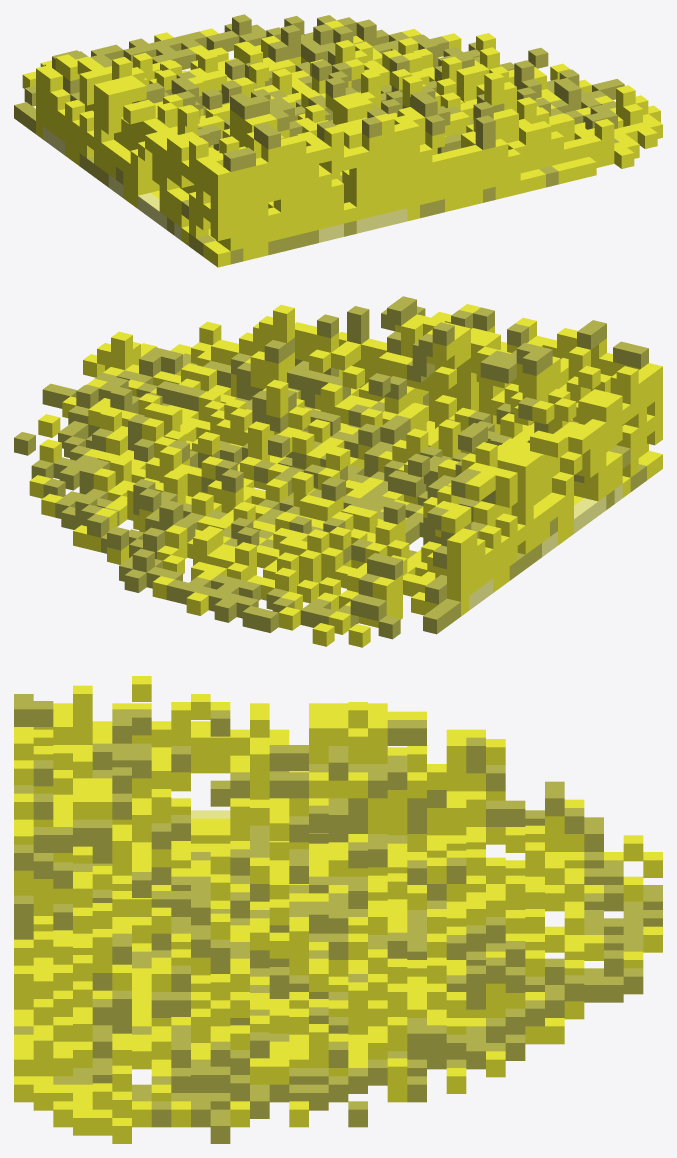
File: Corner room sand.obj
The picture shows the model from 3 angles, top to bottom: view 1: azimuth 30°, elevation 25°; view 2: azimuth 150°, elevation 25°; view 3: azimuth 270°, elevation 25°; orthographic projection. The views are drawn at different scales.
Bounding box in the file's own units: 38 × 9 × 33.
1 material, 1 textured.
